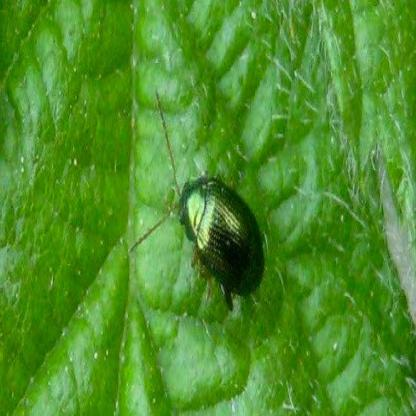beetle: (163, 134, 268, 312)
